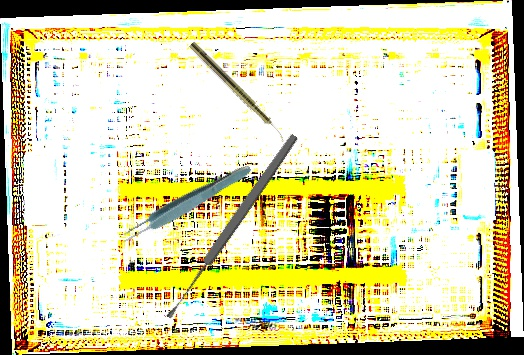Handpiece: (187, 40, 290, 144)
Surgical Spoon: (162, 132, 301, 321)
Tissue Forceps: (116, 159, 255, 248)
